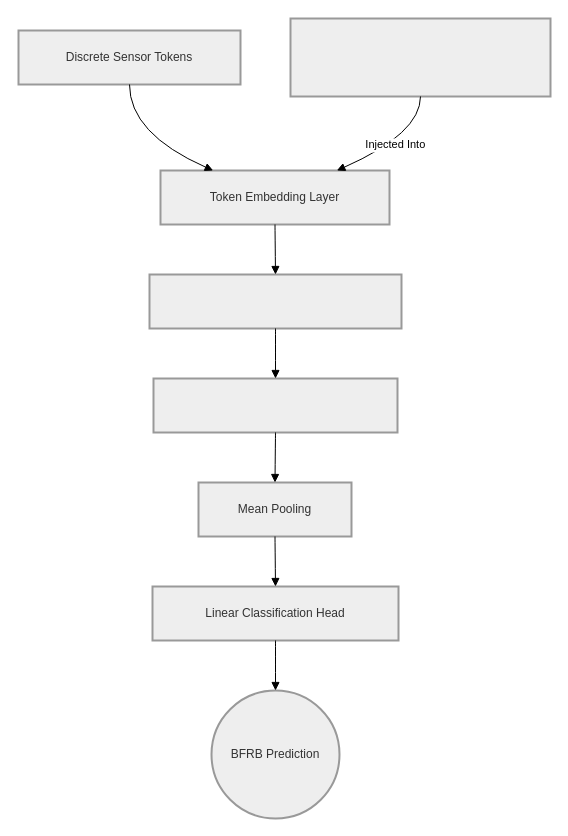
Image size: 568x836. Some labels were removed from this diagram. The shapes that lost their labels are listed below. From the top down, each one's centre as x and y in pixels, then its label:
the point at 420,57: Sinusoidal Positional Encoding
the point at 275,301: Transformer Encoder Block
the point at 275,405: Multi-Head Self-Attention
